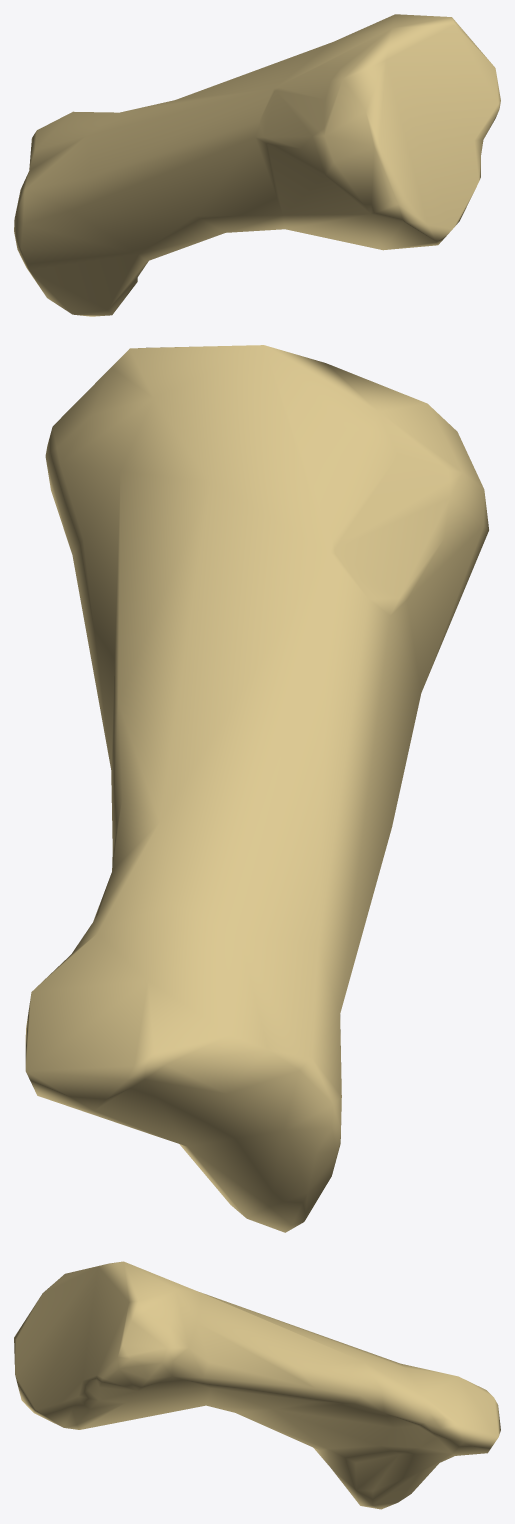
The picture shows the model from 3 angles, top to bottom: view 1: azimuth 30°, elevation 25°; view 2: azimuth 150°, elevation 25°; view 3: azimuth 270°, elevation 25°; orthographic projection. The views are drawn at different scales.
Parts seen in each view (by area): view 1: 右侧第一指近节指骨; view 2: 右侧第一指近节指骨; view 3: 右侧第一指近节指骨.
Part boxes in pixels (x1,y1,x2,y2): 右侧第一指近节指骨: (14, 14, 500, 316); 右侧第一指近节指骨: (25, 345, 488, 1232); 右侧第一指近节指骨: (14, 1261, 500, 1509).
Bounding box in the file's own units: 0.0308 × 0.0339 × 0.0479.
